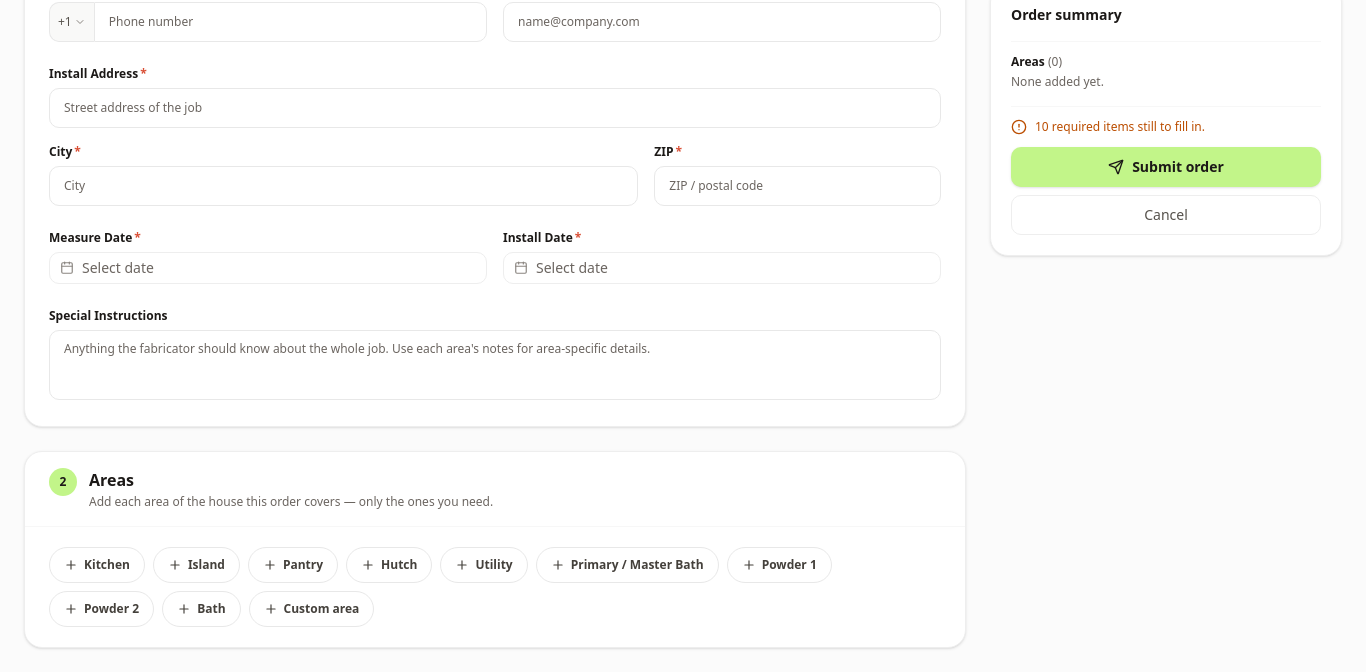
Test: AddCreatedOrderPage › adds an area card from its chip and marks single-use areas as added
(page scrolled)
Click the button with aria-label "Add Kitchen": (97, 565) [49, 547, 145, 583]
(page scrolled)
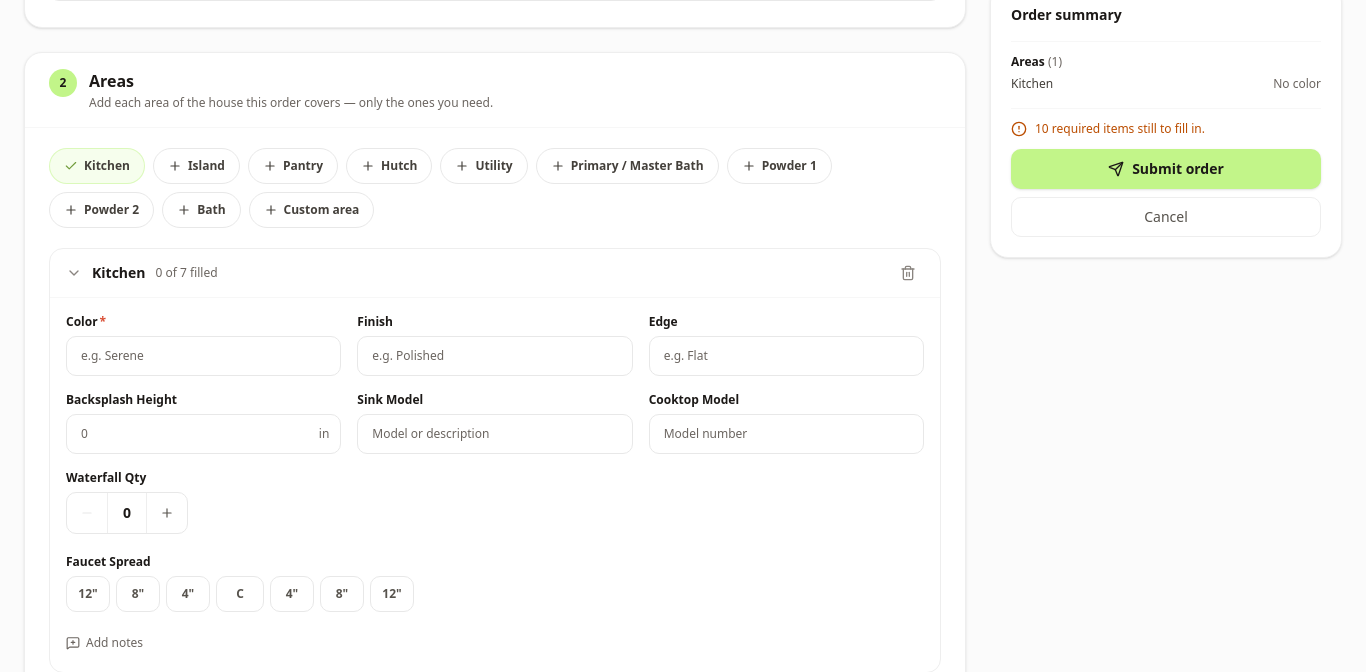
Result: the element "Kitchen" is shown at [49, 248, 941, 671]
Result: the button with aria-label "Kitchen already added" is disabled at [49, 148, 145, 184]
